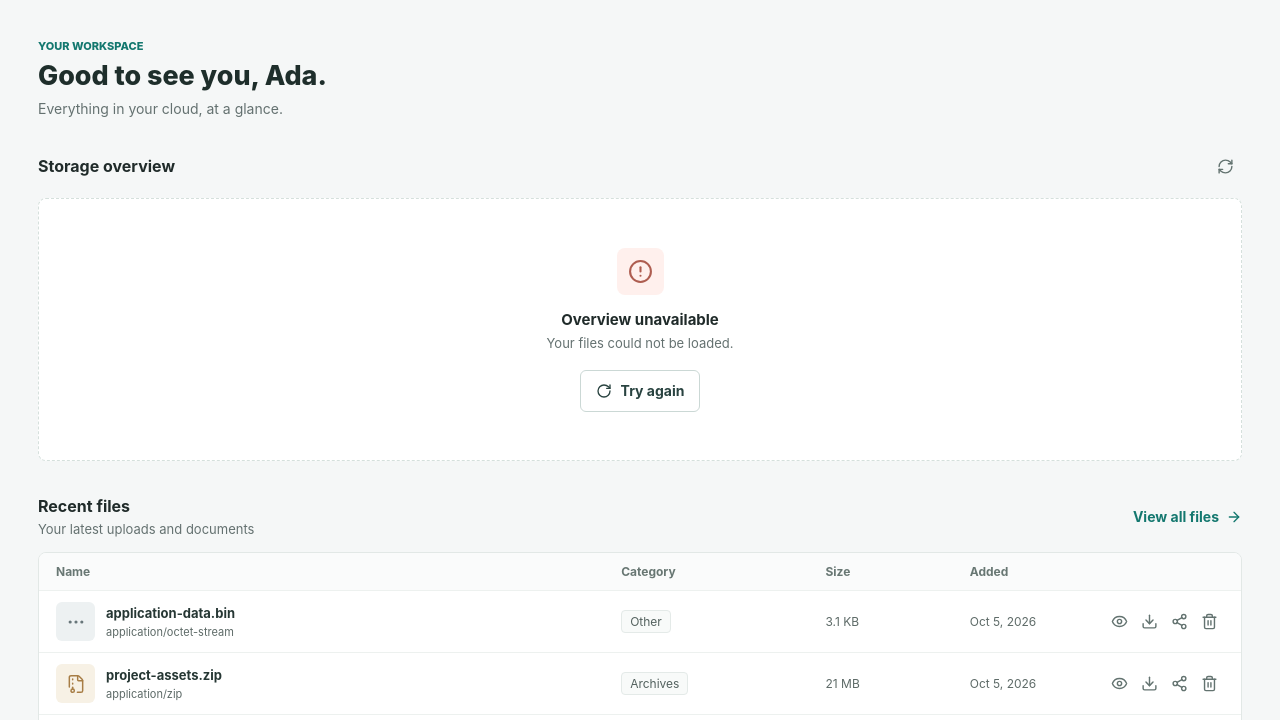
Test: dashboard states › keeps recent files visible and offers retry when the totals fail
expect the heading "Overview unavailable" is shown: met, box x1=561 y1=310 x2=719 y2=328
expect the link "application-data.bin" is shown: met, box x1=106 y1=605 x2=235 y2=621
What coordinates should you click on to do the following:
click the button "Try again"
I would click on:
 (640, 391)
Its box is x1=580 y1=370 x2=700 y2=412.
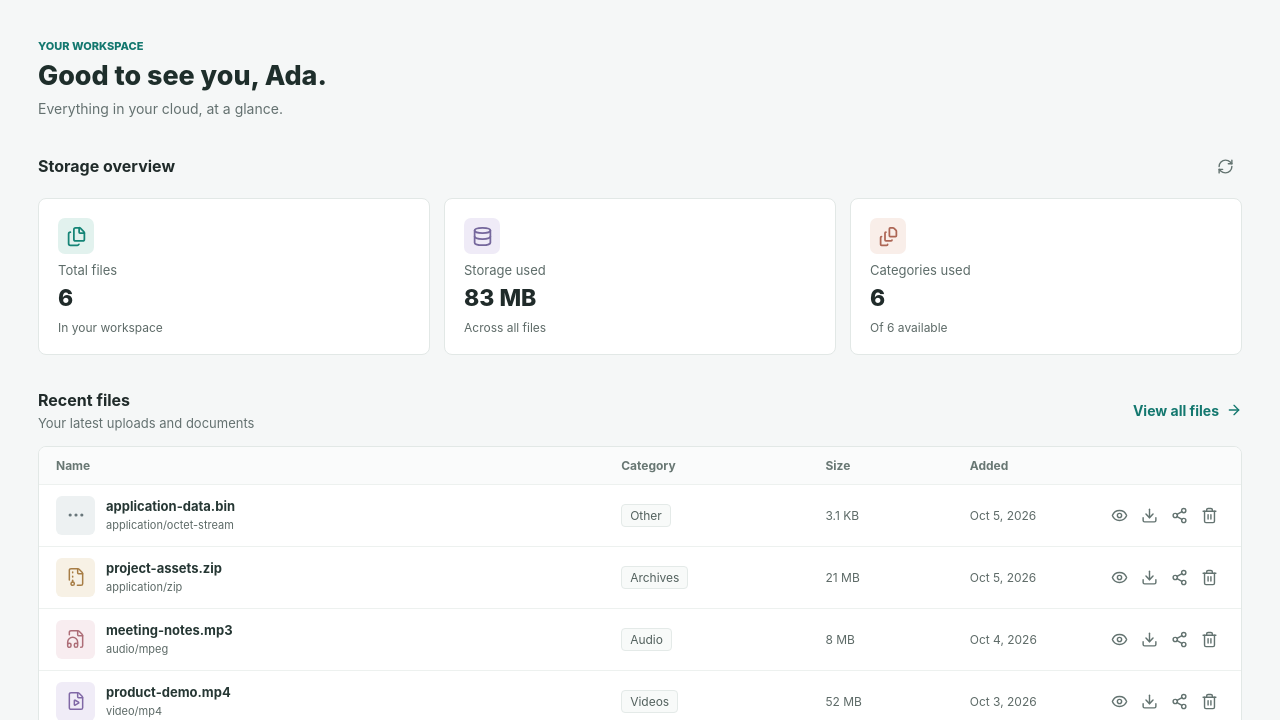
expect the text "Total files" is shown: met, box x1=58 y1=262 x2=117 y2=278
